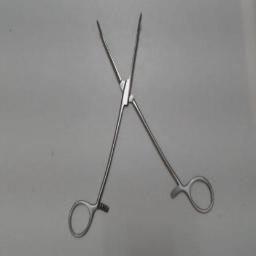Lahey Forceps: (64, 2, 216, 242)
